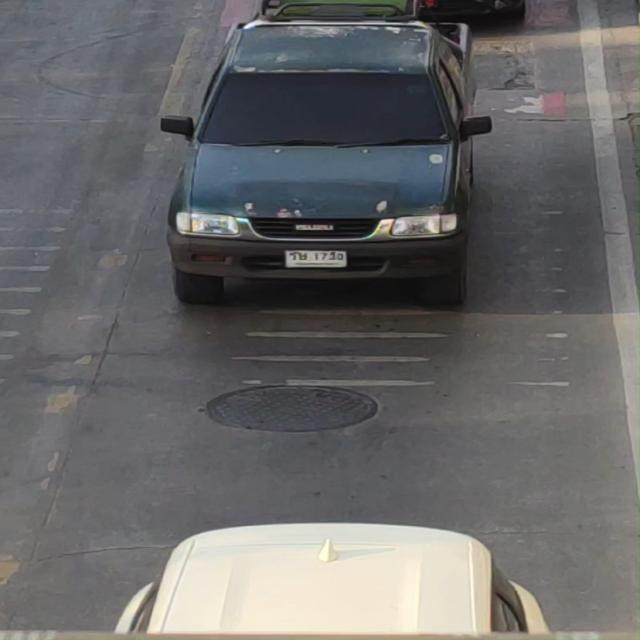car: (133, 10, 498, 288)
